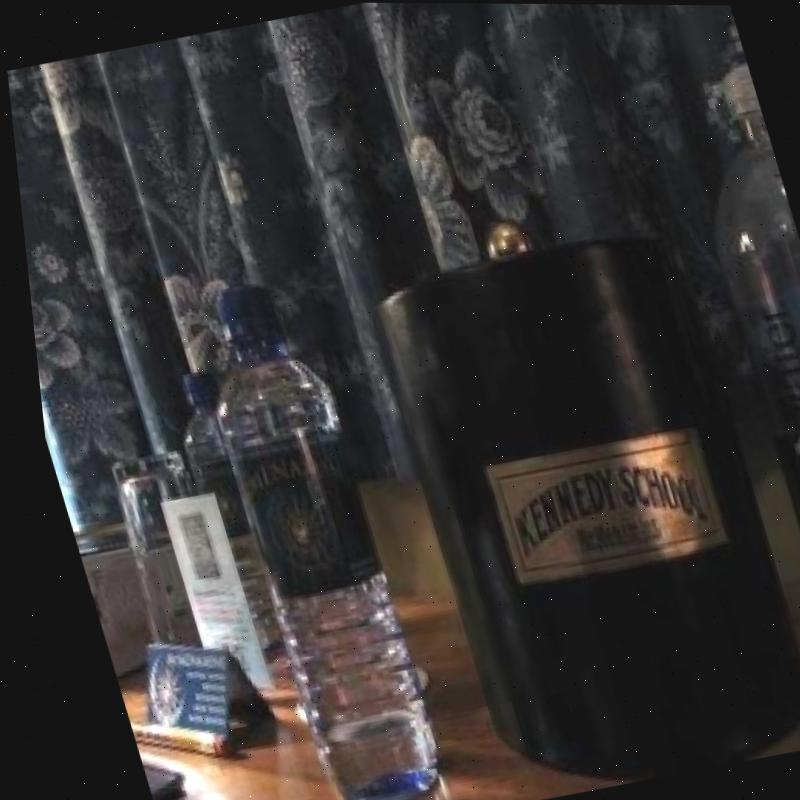botella: (177, 276, 437, 800), (157, 368, 277, 674)
